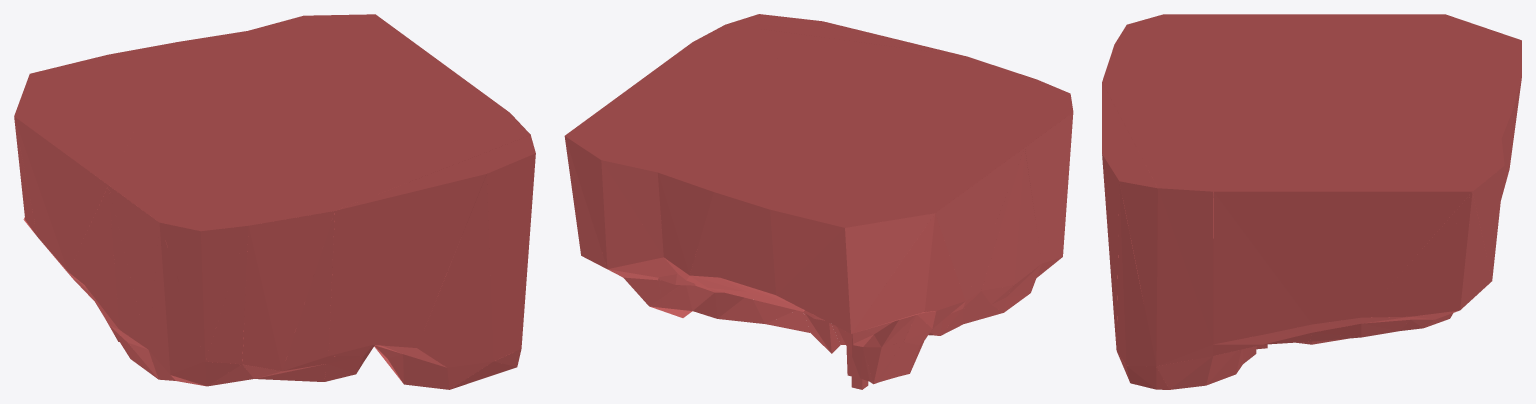
The model's file is main_castle.glb.
3 views of the same model, side by side, from view 1: azimuth 30°, elevation 25°; view 2: azimuth 150°, elevation 25°; view 3: azimuth 270°, elevation 25° (orthographic). The views are drawn at different scales.
Visible parts, largest first — view 1: main_castle_col; view 2: main_castle_col; view 3: main_castle_col.
Part boxes in pixels (box(x1,y1,x2,y2)): main_castle_col: box(14, 14, 535, 389); main_castle_col: box(564, 14, 1073, 389); main_castle_col: box(1102, 14, 1521, 389).
Size of the model in its own units: 17.05 by 9.81 by 17.01.
